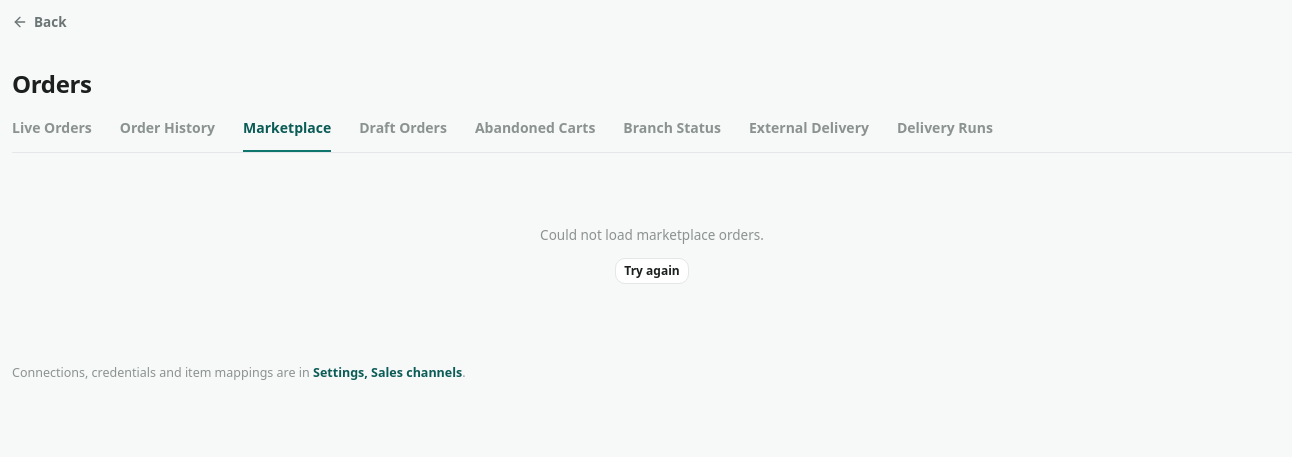
Test: Marketplace orders desk › a failed list ends in an error with Try again, and Try again asks again
Check: the text "Could not load marketplace orders." is shown, box [540, 225, 764, 246]
Click the button "Try again": coordinates (652, 270) [615, 258, 689, 284]
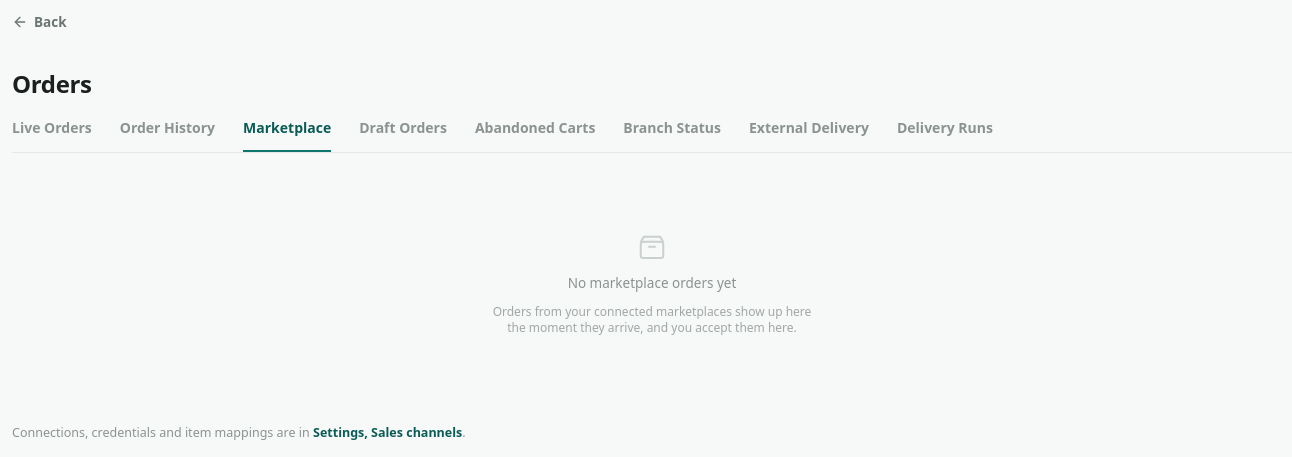
Check: the text "No marketplace orders yet" is shown, box [568, 273, 736, 294]
